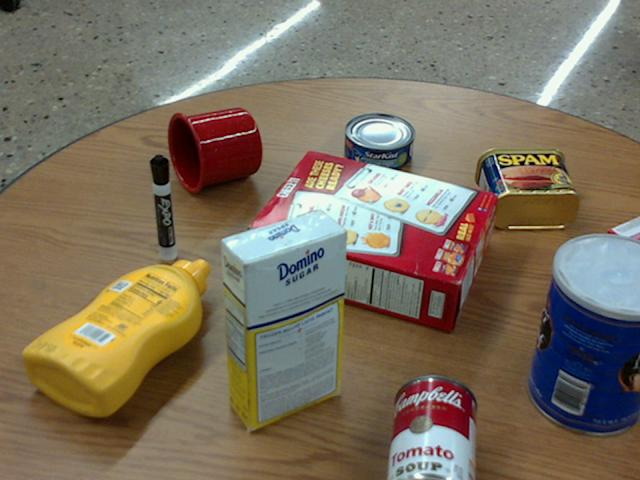cracker_box: (248, 150, 494, 327)
gelatin_box: (592, 215, 639, 297)
large_marker: (150, 154, 175, 259)
master_chef_can: (527, 233, 639, 434)
mug: (166, 107, 261, 193)
mustard_bottle: (25, 259, 208, 415)
potted_meat_can: (476, 146, 579, 228)
sugar_box: (220, 211, 345, 428)
tomato_soup_can: (389, 374, 477, 479)
tuna_fish_can: (345, 112, 414, 169)
